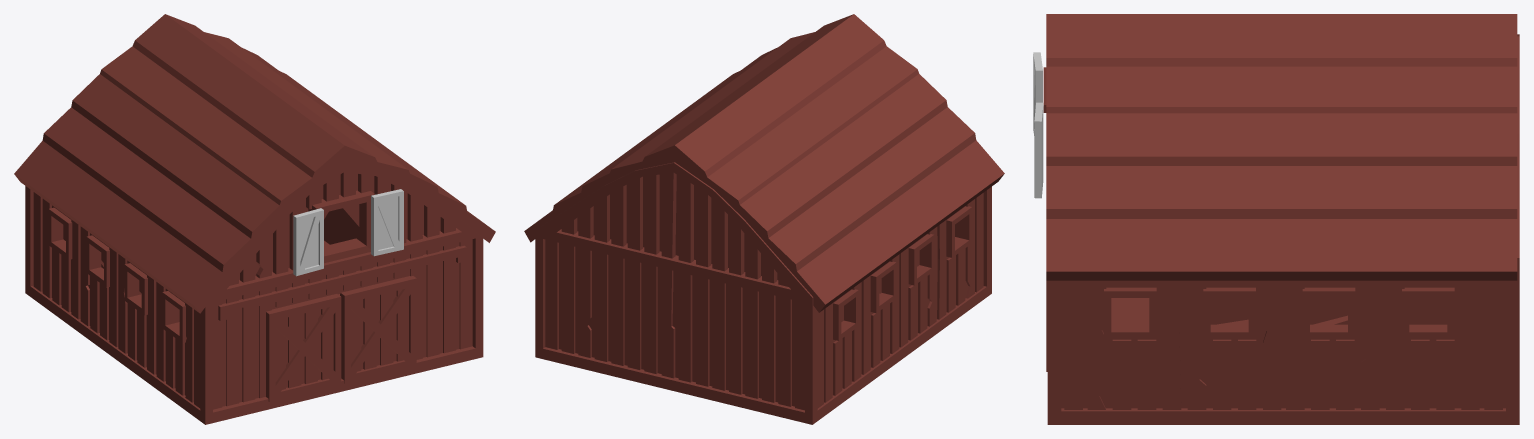
Rendered from Barn.glb.
3 views of the same model, side by side, from view 1: azimuth 30°, elevation 25°; view 2: azimuth 150°, elevation 25°; view 3: azimuth 270°, elevation 25° (orthographic). The views are drawn at different scales.
Visible parts, largest first — view 1: Barn_Cube.005, Barn_Door_Cube.002, Barn_Door2_Cube.007, Barn_Window_Cube, Barn_Window2_Cube.014; view 2: Barn_Cube.005; view 3: Barn_Cube.005, Barn_Window_Cube, Barn_Window2_Cube.014.
Part boxes in pixels (bbox=[...]): Barn_Cube.005: bbox=[14, 14, 495, 424]; Barn_Door_Cube.002: bbox=[340, 276, 416, 383]; Barn_Door2_Cube.007: bbox=[266, 294, 341, 401]; Barn_Window_Cube: bbox=[371, 189, 403, 256]; Barn_Window2_Cube.014: bbox=[293, 208, 323, 276]; Barn_Cube.005: bbox=[524, 14, 1004, 424]; Barn_Cube.005: bbox=[1043, 14, 1519, 424]; Barn_Window_Cube: bbox=[1034, 102, 1043, 198]; Barn_Window2_Cube.014: bbox=[1033, 52, 1042, 135].
Size of the model in its own units: 7.73 by 6.01 by 8.22.
